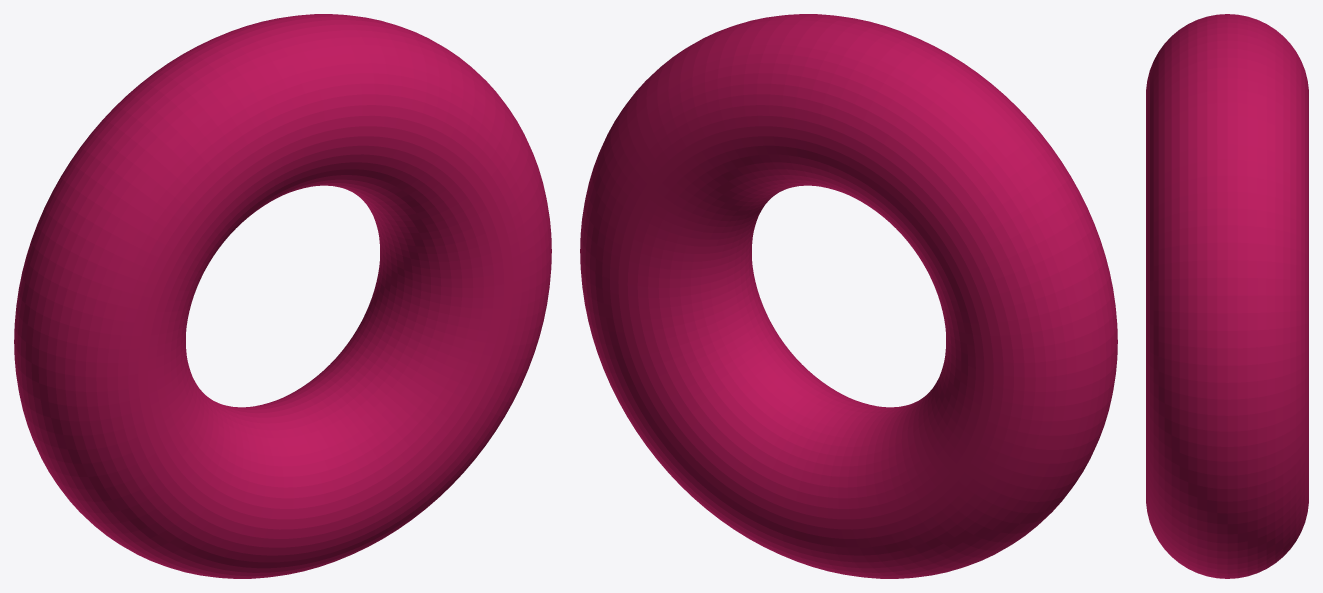
3 views of the same model, side by side, from view 1: azimuth 30°, elevation 25°; view 2: azimuth 150°, elevation 25°; view 3: azimuth 270°, elevation 25° (orthographic). The views are drawn at different scales.
Parts seen in each view (by area): view 1: world; view 2: world; view 3: world.
Part boxes in pixels (bbox=[...]): world: bbox=[14, 14, 551, 578]; world: bbox=[580, 14, 1117, 578]; world: bbox=[1146, 14, 1308, 578].
Bounding box in the file's own units: 29.07 × 29.07 × 8.38.
